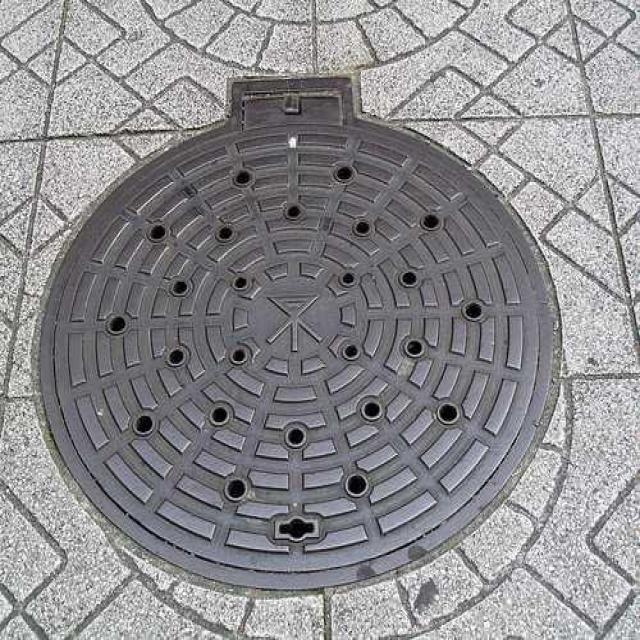manhole: (40, 76, 559, 592)
